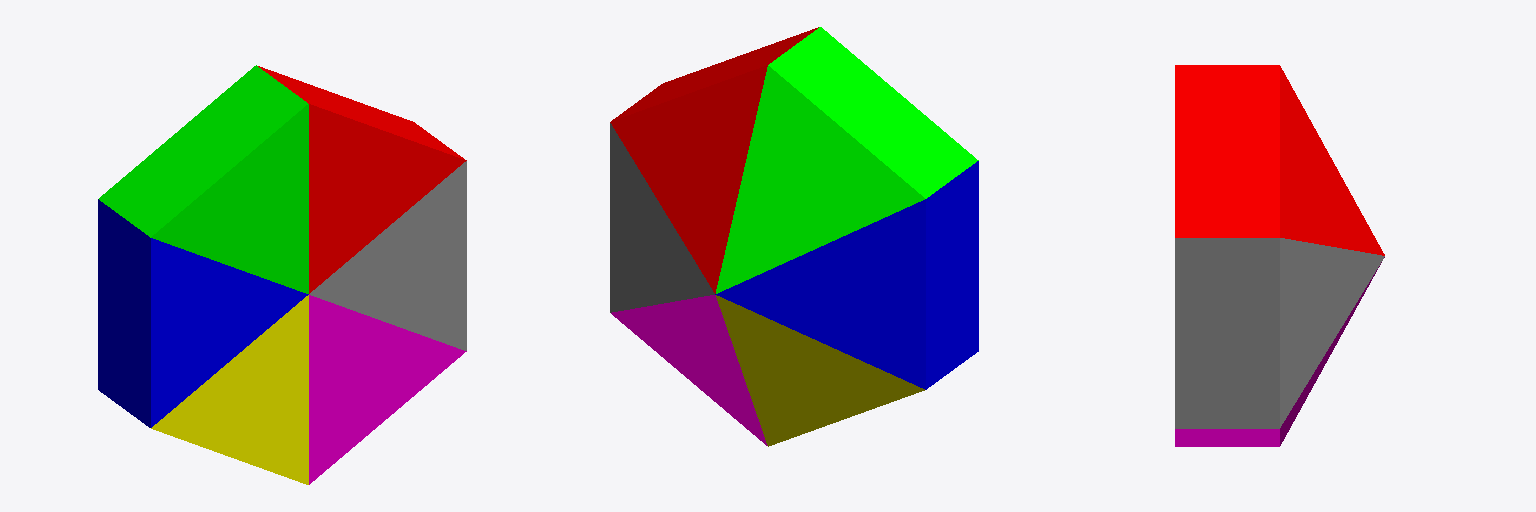
Rendered from hexanodes_picking.obj.
3 renders of one model, left to right at view 1: azimuth 30°, elevation 25°; view 2: azimuth 150°, elevation 25°; view 3: azimuth 270°, elevation 25°, orthographic.
Parts seen in each view (by area): view 1: hexanodes_picking; view 2: hexanodes_picking; view 3: hexanodes_picking.
Boxes of the visible parts, x1,y1,x2,y2 form: hexanodes_picking: [98, 65, 466, 484]; hexanodes_picking: [610, 27, 978, 446]; hexanodes_picking: [1175, 65, 1384, 446].
Size of the model in its own units: 43.3 by 50 by 25.